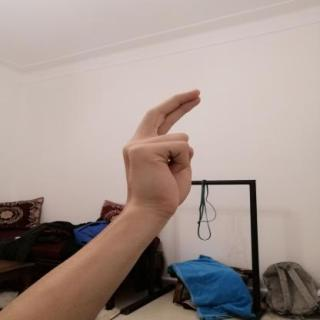ZAY: (114, 84, 210, 224)
